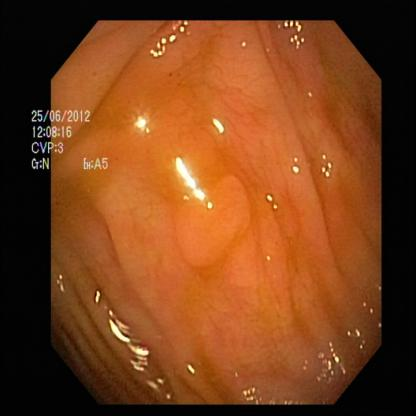Labels: (30, 99, 112, 178)
Polyps: (176, 167, 260, 267)
